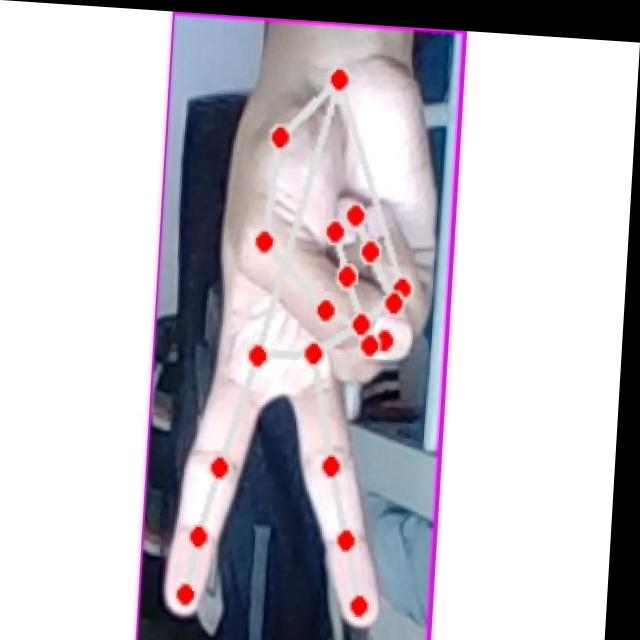V: (166, 50, 452, 631)
